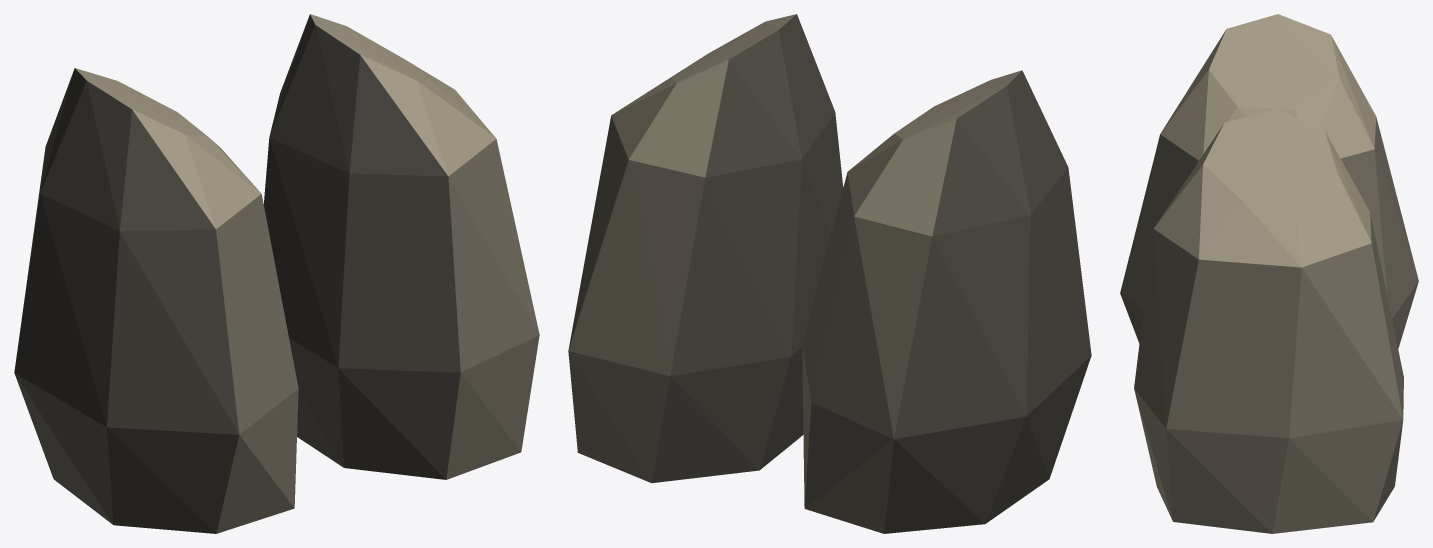
The model's file is TW_ROCK_SPLIT_MASS_A_LOD0.glb.
The picture shows the model from 3 angles, left to right: view 1: azimuth 30°, elevation 25°; view 2: azimuth 150°, elevation 25°; view 3: azimuth 270°, elevation 25°; orthographic projection. The views are drawn at different scales.
Visible parts, largest first — view 1: TW_ROCK_SPLIT_MASS_A_LOD0; view 2: TW_ROCK_SPLIT_MASS_A_LOD0; view 3: TW_ROCK_SPLIT_MASS_A_LOD0.
Boxes of the visible parts, bbox=[...] form: TW_ROCK_SPLIT_MASS_A_LOD0: bbox=[14, 14, 539, 533]; TW_ROCK_SPLIT_MASS_A_LOD0: bbox=[568, 14, 1091, 533]; TW_ROCK_SPLIT_MASS_A_LOD0: bbox=[1120, 14, 1418, 533].
Size of the model in its own units: 1.26 by 1.1 by 0.8418.
Materials: 1 (1 with a texture image).
